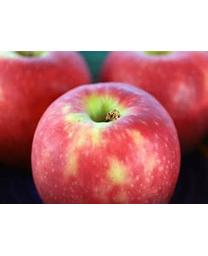apple: (30, 81, 180, 201), (96, 51, 207, 155), (0, 51, 92, 173)
